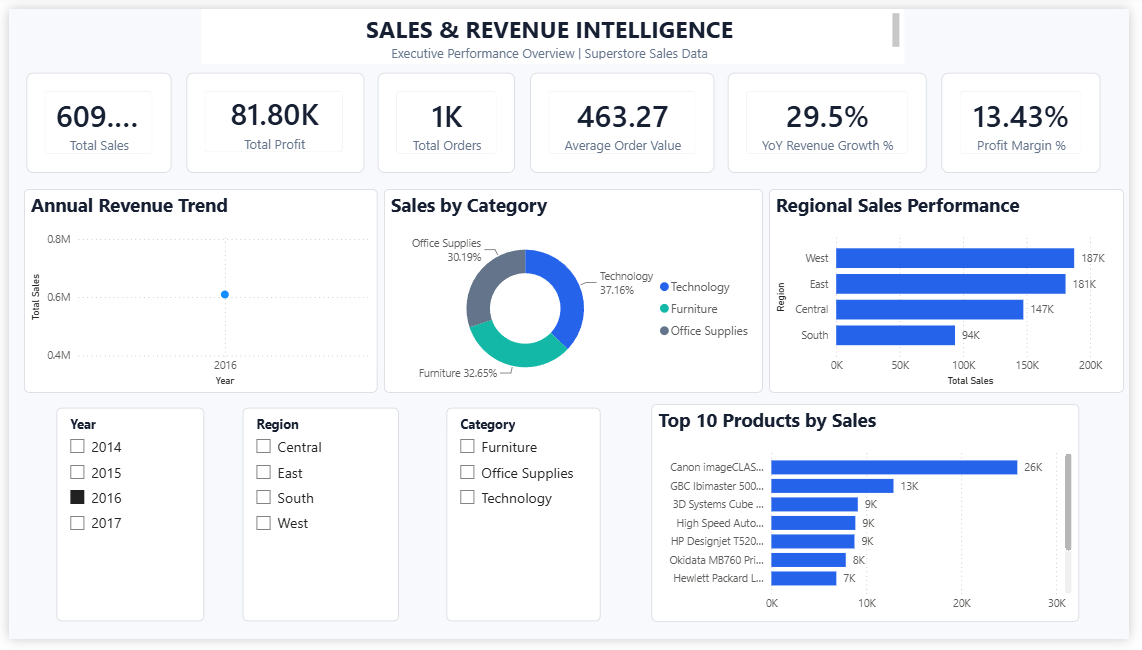

Layout of this report page (visuals, bound fields, positions):
{"tool":"powerbi","page":{"name":"Executive Overview","canvas":[1280,720],"ordinal":0},"visuals":[{"type":"textbox","box":[220,0,802.9,62.9],"z":0},{"type":"cardVisual","fields":{"Data":["Raw_Data.Total Sales"]},"box":[20,72.9,165.7,114.3],"z":1000},{"type":"cardVisual","fields":{"Data":["Raw_Data.Total Profit"]},"box":[202.9,72.9,202.9,114.3],"z":2000},{"type":"cardVisual","fields":{"Data":["Raw_Data.Total Orders"]},"box":[421.7,72.9,157.1,114.3],"z":3000},{"type":"cardVisual","fields":{"Data":["Raw_Data.Average Order Value"]},"box":[595.4,72.9,210,114.3],"z":4000},{"type":"cardVisual","fields":{"Data":["DateTable.YoY Revenue Growth %"]},"box":[822,72.9,227.1,114.3],"z":5000},{"type":"cardVisual","fields":{"Data":["Raw_Data.Profit Margin %"]},"box":[1065.7,72.9,181.4,114.3],"z":6000},{"type":"lineChart","title":"Annual Revenue Trend","fields":{"Category":["DateTable.Month","DateTable.Year"],"Y":["Raw_Data.Total Sales"]},"box":[17.1,205.7,404.3,232.9],"z":7000},{"type":"donutChart","title":"Sales by Category","fields":{"Category":["Raw_Data.Category"],"Y":["Raw_Data.Total Sales"]},"box":[428.6,205.7,432.9,232.9],"z":8000},{"type":"clusteredBarChart","title":"Regional Sales Performance","fields":{"Category":["Raw_Data.Region"],"Y":["Raw_Data.Total Sales"]},"box":[868.6,205.7,405.7,232.9],"z":9000},{"type":"clusteredBarChart","title":"Top 10 Products by Sales","fields":{"Category":["Raw_Data.Product Name"],"Y":["Raw_Data.Total Sales"]},"box":[734.3,451.4,488.6,248.6],"z":10000},{"type":"slicer","fields":{"Values":["DateTable.Year"]},"box":[54.3,455.7,168.6,244.3],"z":11000},{"type":"slicer","fields":{"Values":["Raw_Data.Region"]},"box":[267.1,455.7,178.6,244.3],"z":12000},{"type":"slicer","fields":{"Values":["Raw_Data.Category"]},"box":[500,455.7,175.7,244.3],"z":13000}]}

Visuals, with their boxes in screenshot pixels (x1, y1, x2, y2), scaled from the page's 1280x720 canvas onto the 1142x650 screenshot:
textbox: x1=196, y1=0, x2=913, y2=57
cardVisual - Raw_Data.Total Sales: x1=18, y1=66, x2=166, y2=169
cardVisual - Raw_Data.Total Profit: x1=181, y1=66, x2=362, y2=169
cardVisual - Raw_Data.Total Orders: x1=376, y1=66, x2=516, y2=169
cardVisual - Raw_Data.Average Order Value: x1=531, y1=66, x2=719, y2=169
cardVisual - DateTable.YoY Revenue Growth %: x1=733, y1=66, x2=936, y2=169
cardVisual - Raw_Data.Profit Margin %: x1=951, y1=66, x2=1113, y2=169
"Annual Revenue Trend" lineChart: x1=15, y1=186, x2=376, y2=396
"Sales by Category" donutChart: x1=382, y1=186, x2=769, y2=396
"Regional Sales Performance" clusteredBarChart: x1=775, y1=186, x2=1137, y2=396
"Top 10 Products by Sales" clusteredBarChart: x1=655, y1=408, x2=1091, y2=632
slicer - DateTable.Year: x1=48, y1=411, x2=199, y2=632
slicer - Raw_Data.Region: x1=238, y1=411, x2=398, y2=632
slicer - Raw_Data.Category: x1=446, y1=411, x2=603, y2=632
